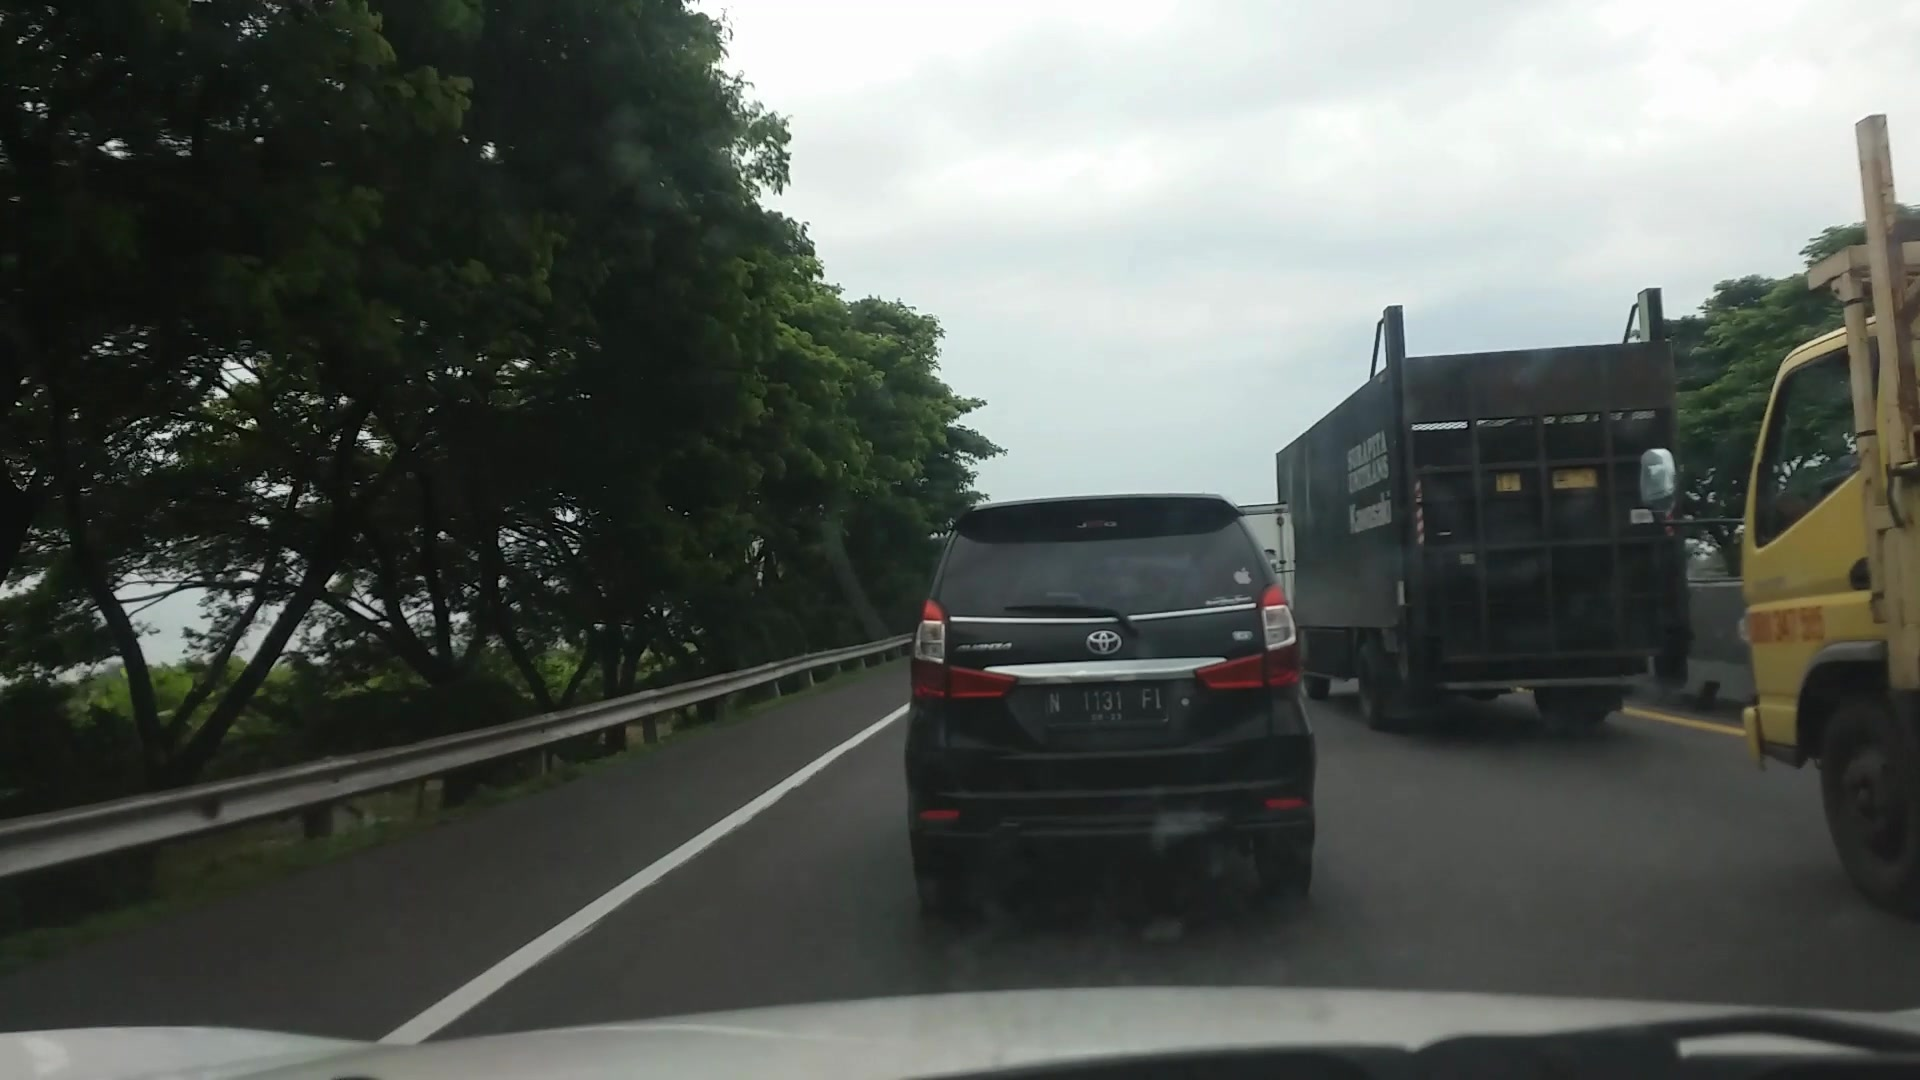plate_positive: (1044, 686, 1168, 727)
